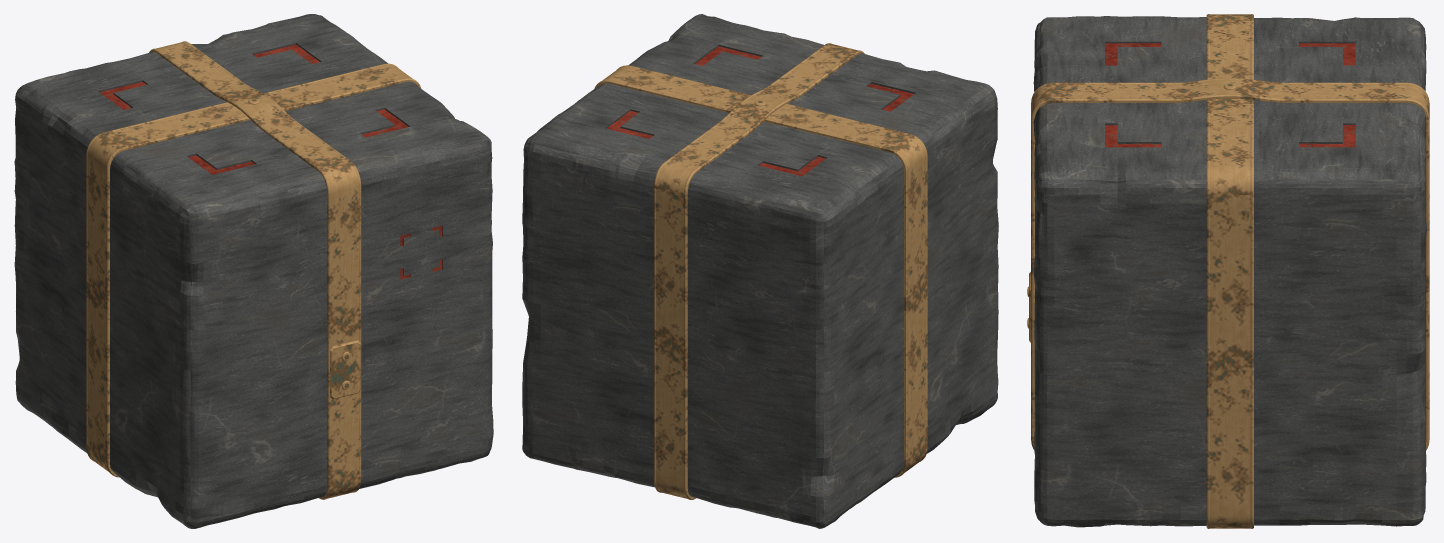
3 renders of one model, left to right at view 1: azimuth 30°, elevation 25°; view 2: azimuth 150°, elevation 25°; view 3: azimuth 270°, elevation 25°, orthographic. The views are drawn at different scales.
Visible parts, largest first — view 1: 01_HewnGreywacke_RecessedSeals, 03_BronzeGirth_FrontBack, 02_BronzeGirth_EastWest, 05_FrontScarfPlate; view 2: 01_HewnGreywacke_RecessedSeals, 03_BronzeGirth_FrontBack, 02_BronzeGirth_EastWest; view 3: 01_HewnGreywacke_RecessedSeals, 02_BronzeGirth_EastWest, 03_BronzeGirth_FrontBack.
Boxes of the visible parts, x1,y1,x2,y2 form: 01_HewnGreywacke_RecessedSeals: (14, 14, 493, 528); 03_BronzeGirth_FrontBack: (149, 41, 361, 499); 02_BronzeGirth_EastWest: (86, 63, 421, 477); 05_FrontScarfPlate: (330, 340, 360, 399); 01_HewnGreywacke_RecessedSeals: (522, 14, 998, 528); 03_BronzeGirth_FrontBack: (654, 43, 864, 499); 02_BronzeGirth_EastWest: (594, 65, 927, 477); 01_HewnGreywacke_RecessedSeals: (1033, 16, 1426, 527); 02_BronzeGirth_EastWest: (1206, 14, 1253, 528); 03_BronzeGirth_FrontBack: (1031, 78, 1429, 450).
Size of the model in its own units: 1.01 by 1.05 by 1.02.
3 materials, 3 textured.
